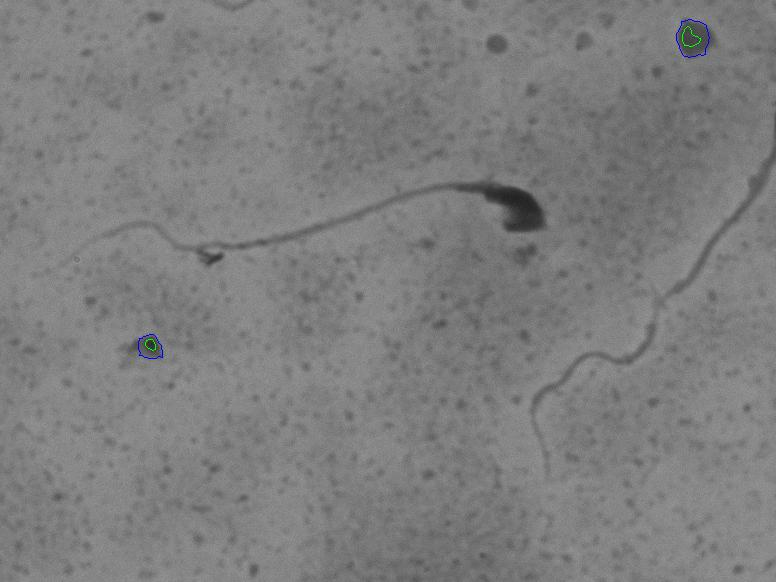Abnormal: (35, 140, 558, 281)
